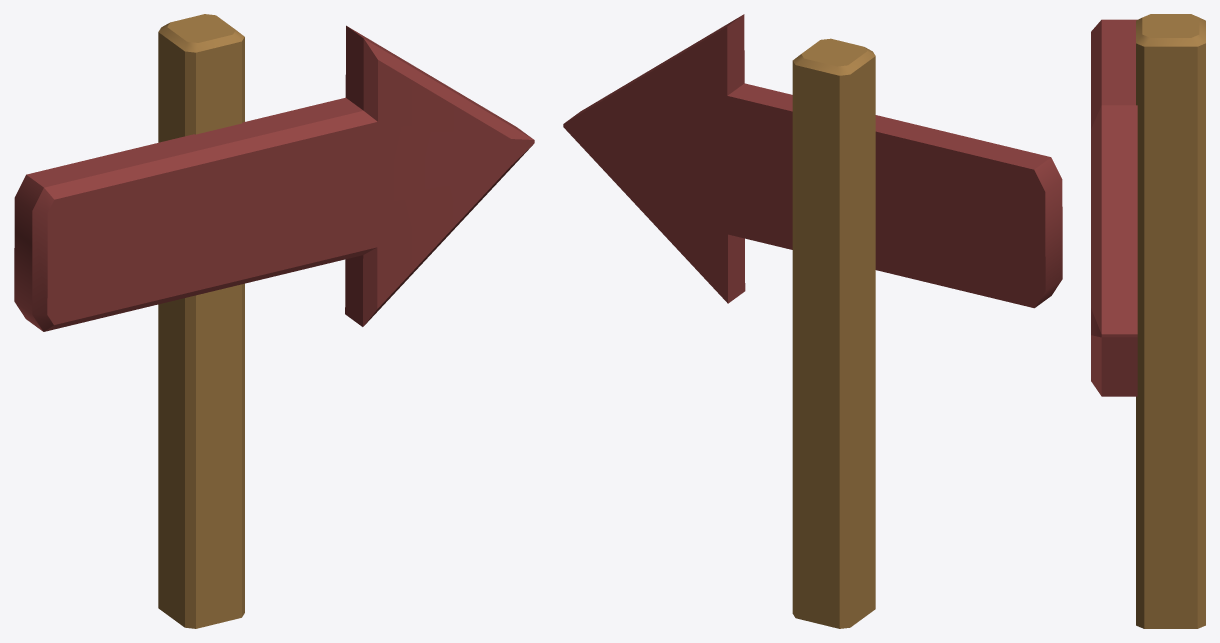
File: Env_ArrowSign.fbx
The picture shows the model from 3 angles, left to right: view 1: azimuth 30°, elevation 25°; view 2: azimuth 150°, elevation 25°; view 3: azimuth 270°, elevation 25°; orthographic projection. The views are drawn at different scales.
Parts seen in each view (by area): view 1: ArrowSign; view 2: ArrowSign; view 3: ArrowSign.
Boxes of the visible parts, x1,y1,x2,y2 form: ArrowSign: (14,14,534,628); ArrowSign: (563,14,1062,628); ArrowSign: (1091,14,1205,628).
Bounding box in the file's own units: 139 × 154 × 27.24.
